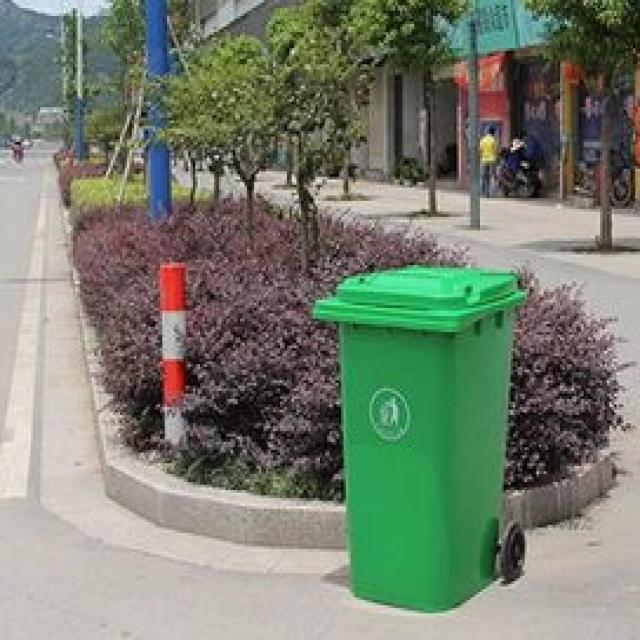garbage_bin: (310, 265, 524, 611)
